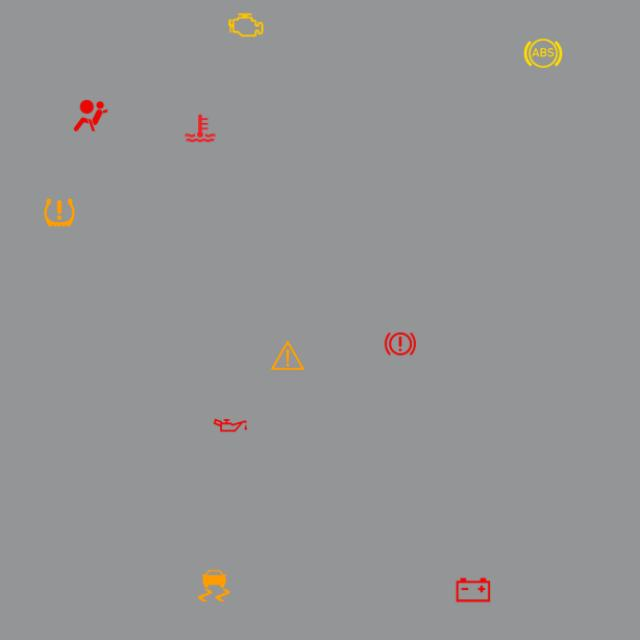Anti Lock Braking System: (522, 32, 564, 74)
Braking System Issue: (380, 323, 421, 365)
Charging System Issue: (452, 569, 494, 611)
Check Engine: (225, 4, 267, 46)
Electronic Stability Problem -ESP-: (193, 565, 234, 607)
Engine Overheating Warning Light: (179, 107, 221, 149)
Low Engine Oil Warning Light: (210, 405, 251, 446)
Low Tire Pressure Warning Light: (39, 192, 80, 233)
Master warning light: (267, 335, 308, 376)
SRS-Airbag: (70, 95, 111, 136)
